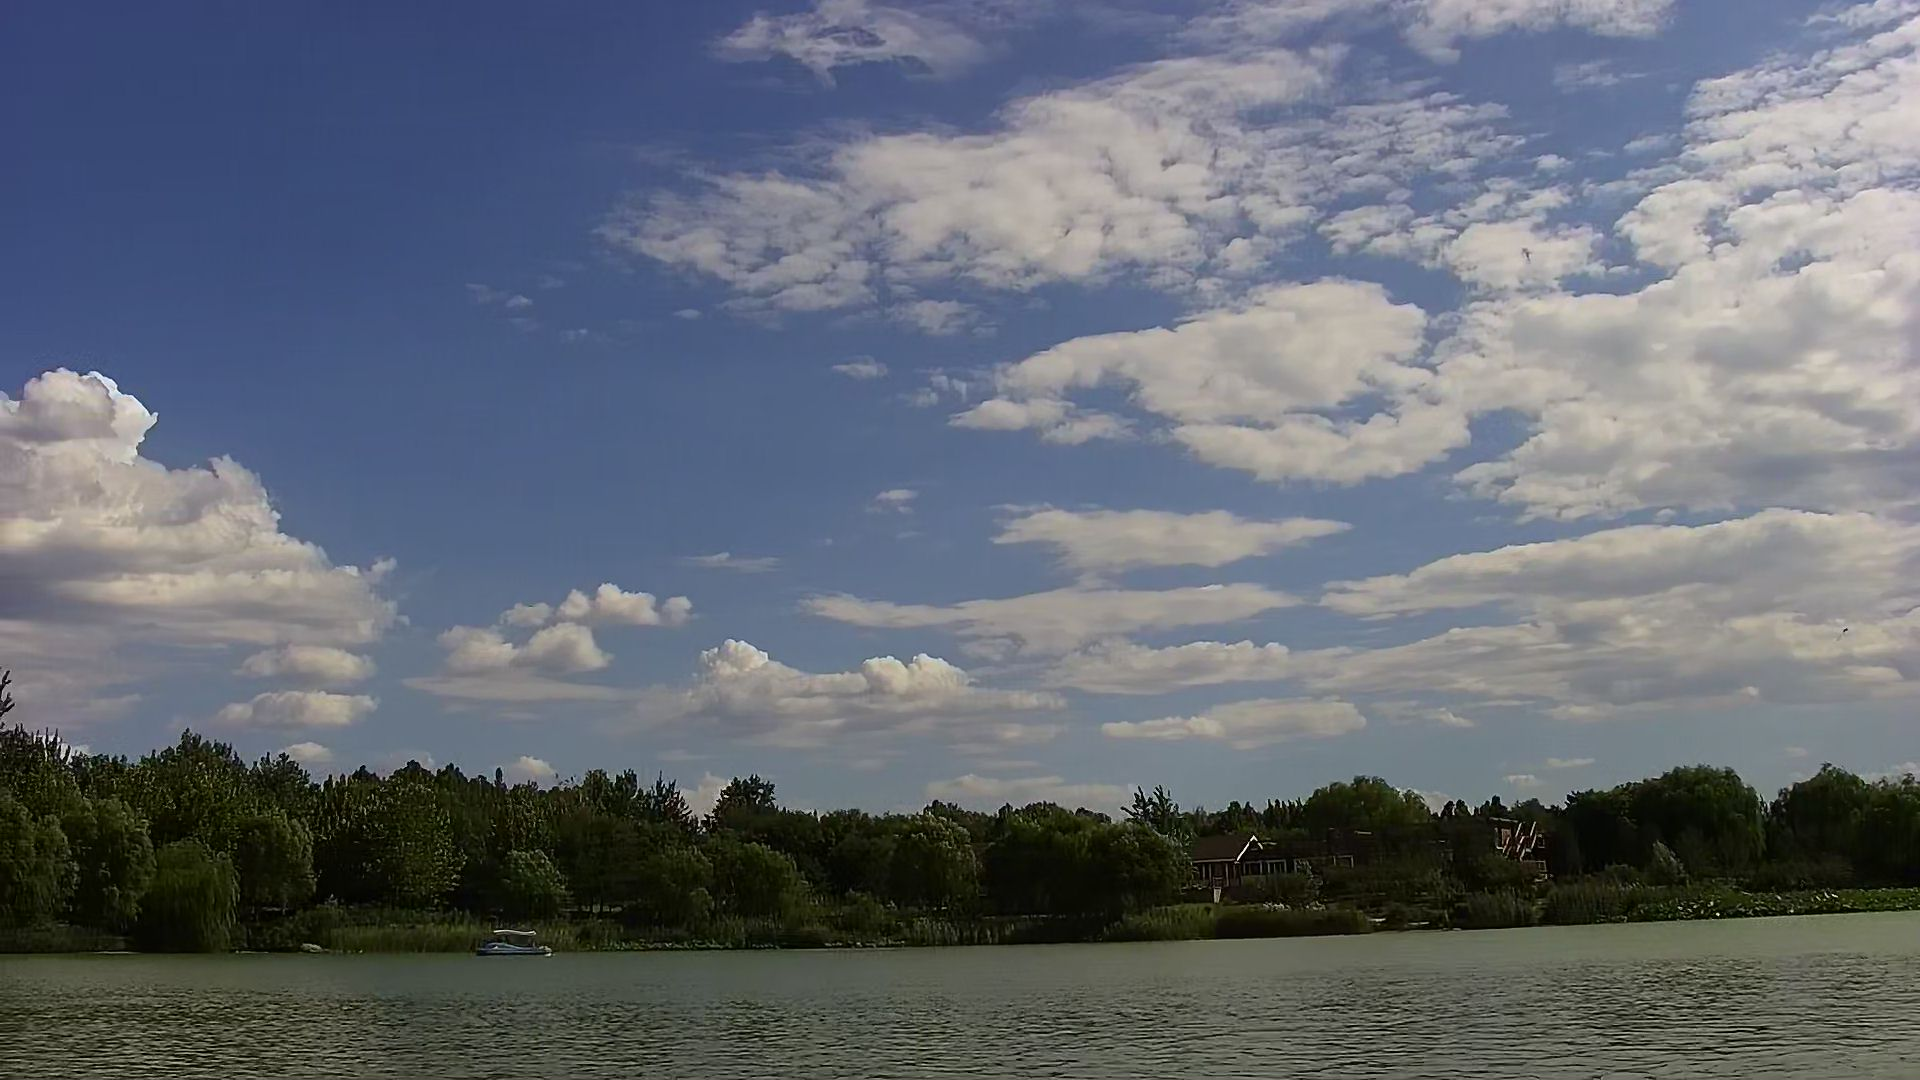boat: (472, 922, 560, 968)
